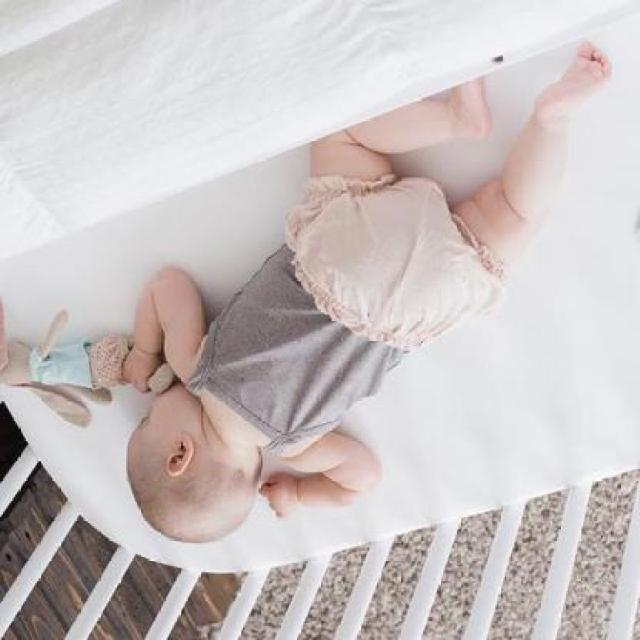baby: (123, 40, 614, 545)
